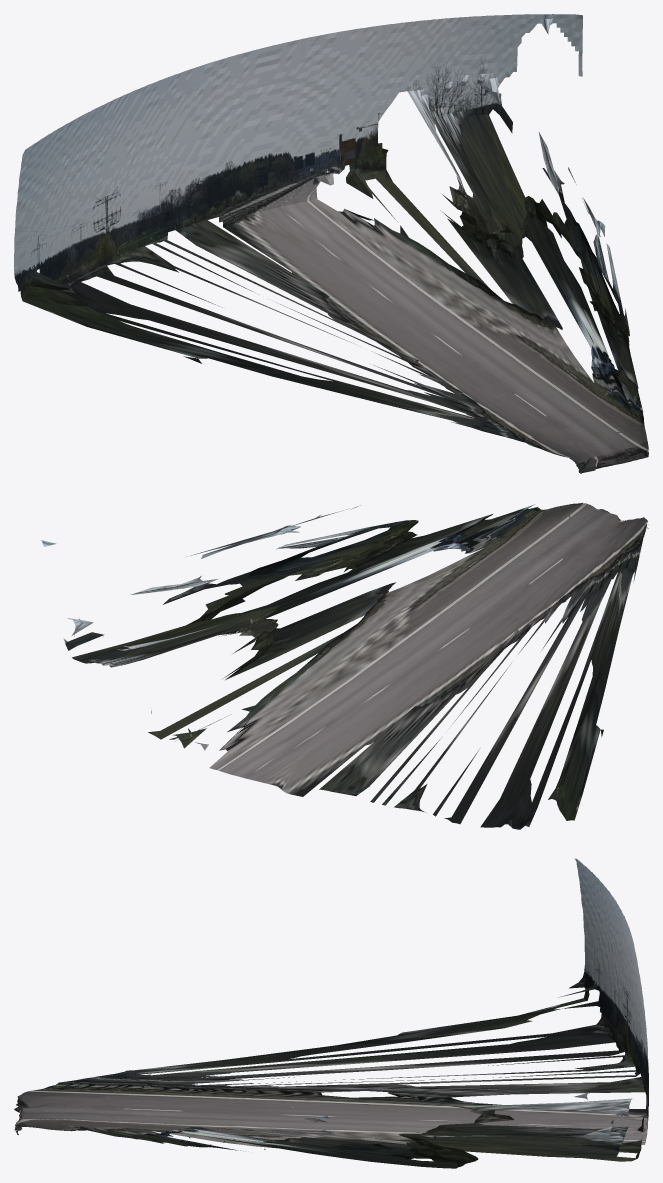
3 renders of one model, top to bottom at view 1: azimuth 30°, elevation 25°; view 2: azimuth 150°, elevation 25°; view 3: azimuth 270°, elevation 25°, orthographic. The views are drawn at different scales.
Visible parts, largest first — view 1: defaultobject; view 2: defaultobject; view 3: defaultobject.
Part boxes in pixels (x1,y1,x2,y2): defaultobject: (14,14,648,473); defaultobject: (40,503,648,829); defaultobject: (14,858,648,1168).
Bounding box in the file's own units: 41.03 × 12.38 × 44.37.
1 material, 1 textured.
